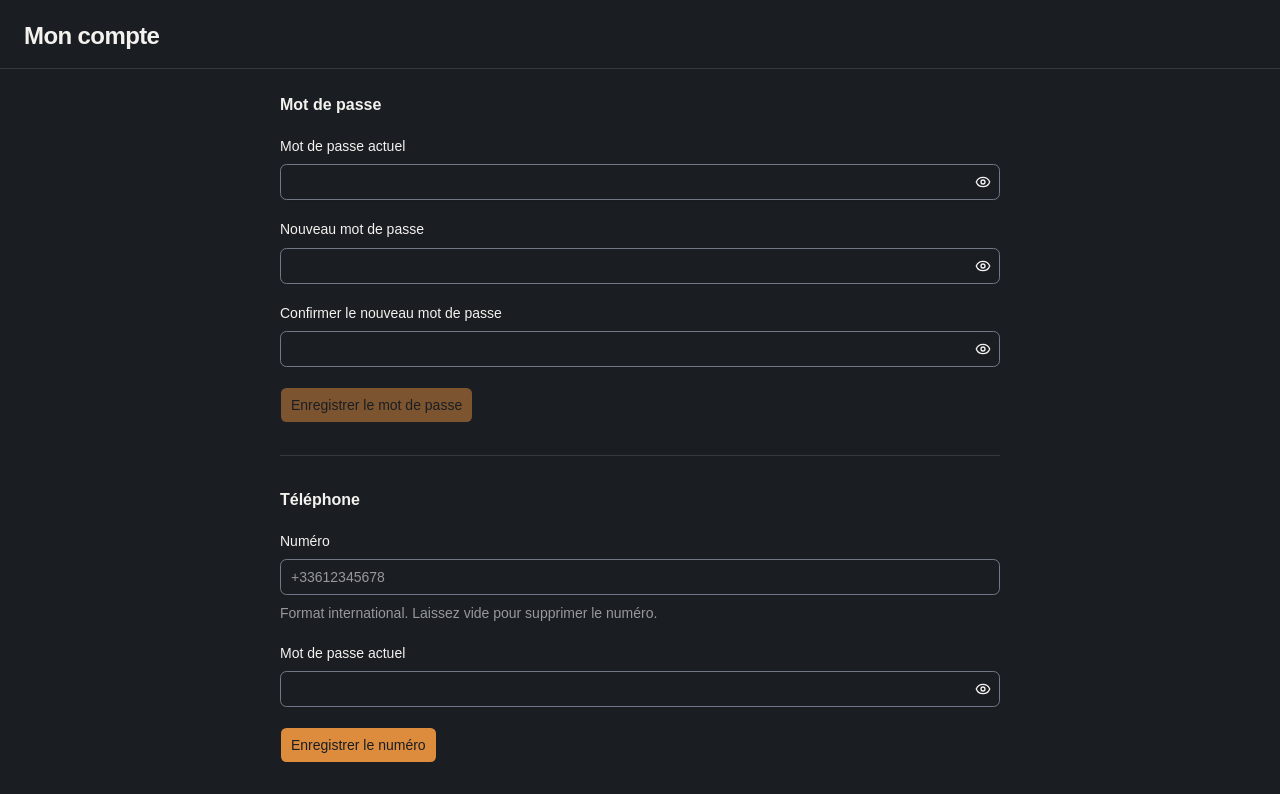
Account (KAN-152, FR9, FR10) › on a successful password change shows the "other sessions closed" message and keeps the session logged in (FR12)
Expected: the element with test id "account-password-section" is shown, [280,93,1000,423]
Type "old-pw" into the password field with test id "account-password-current" at [626, 182], box [281,164,971,200]
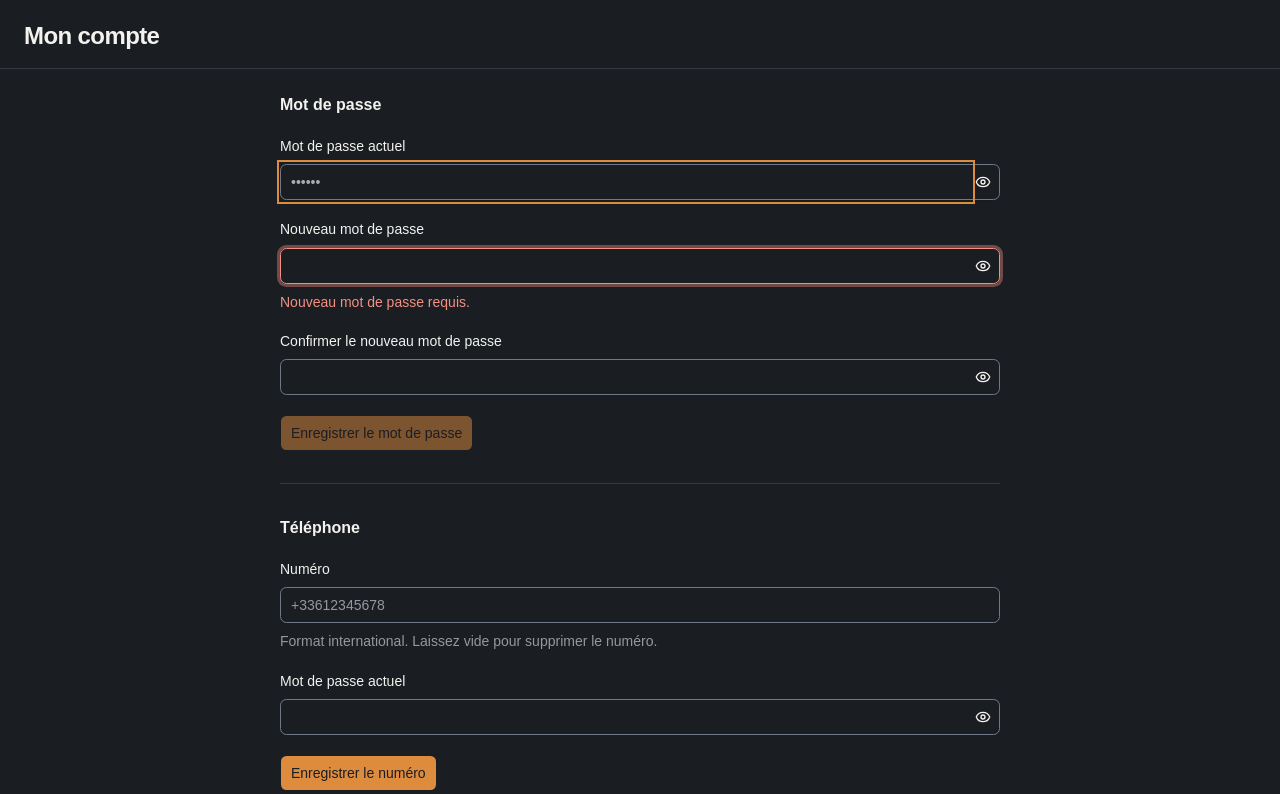
Type "une-phrase-correcte-1" into the password field with test id "account-password-new" at [626, 266], box [281,248,971,284]
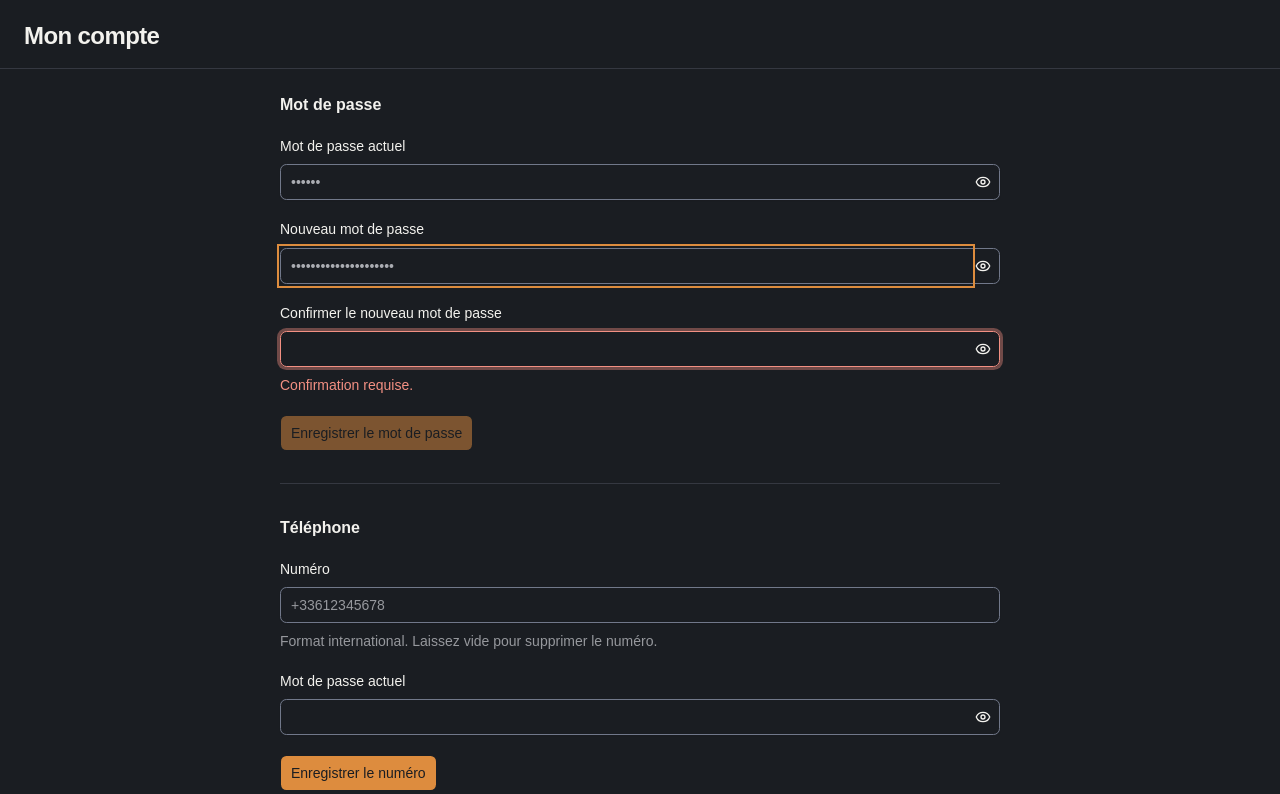
Type "une-phrase-correcte-1" into the password field with test id "account-password-confirmation" at [626, 349], box [281,331,971,367]
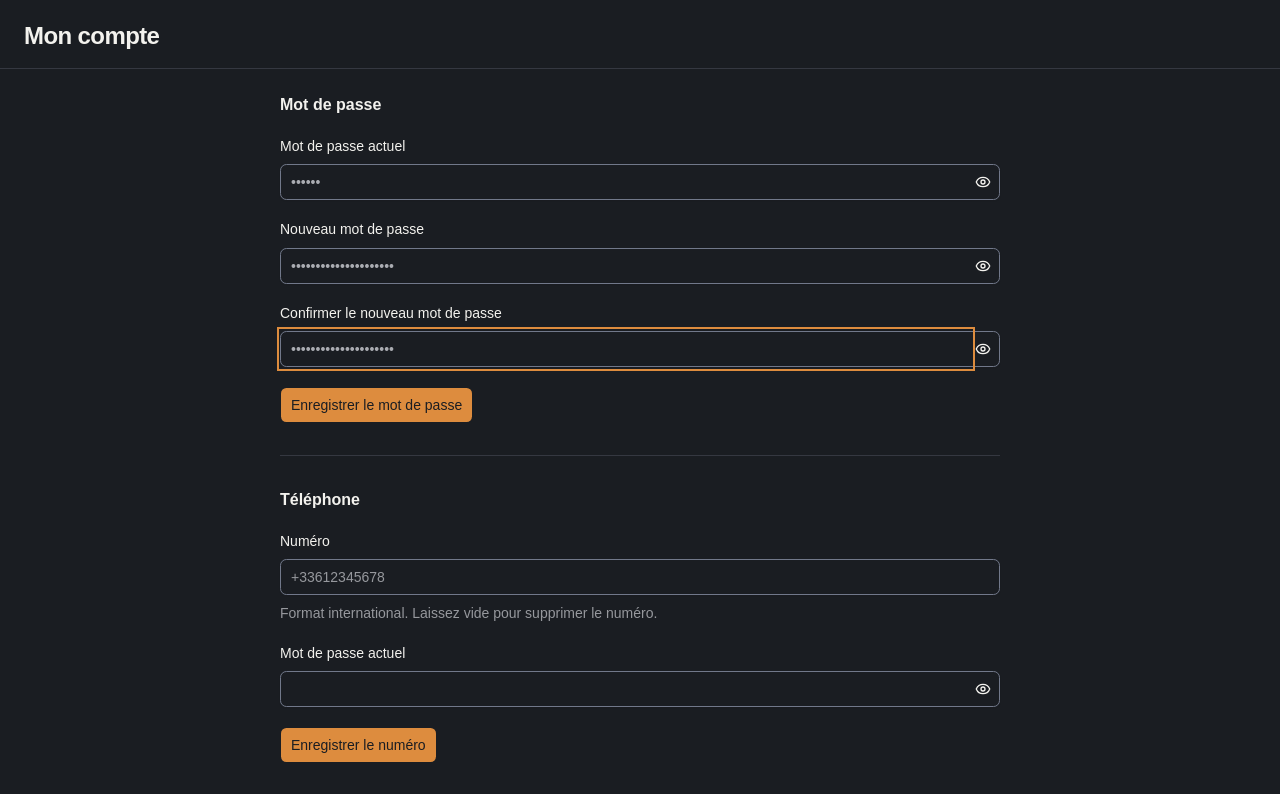
Click the button with test id "account-password-submit" at [377, 405], box [280,387,473,423]
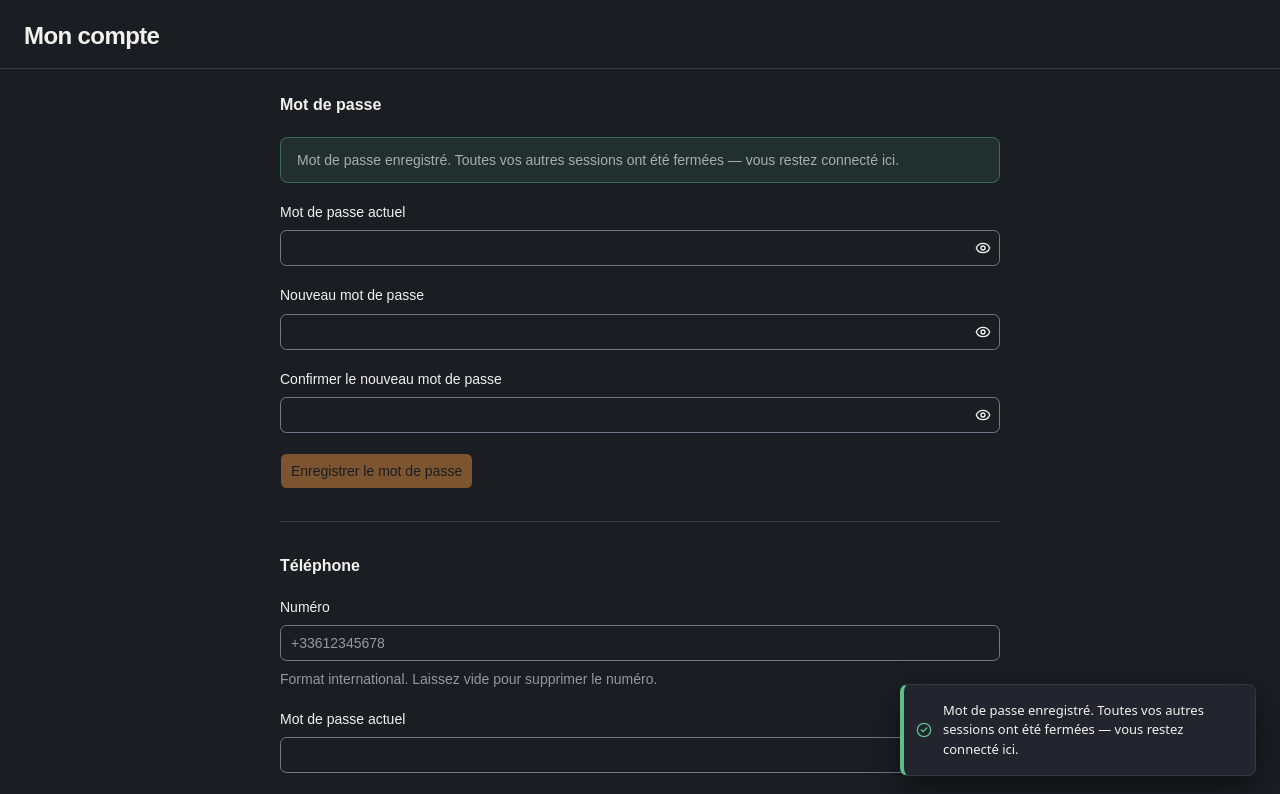
Expected: the message with test id "account-password-success" shows "Toutes vos autres sessions ont été fermées", [297,152,899,168]
